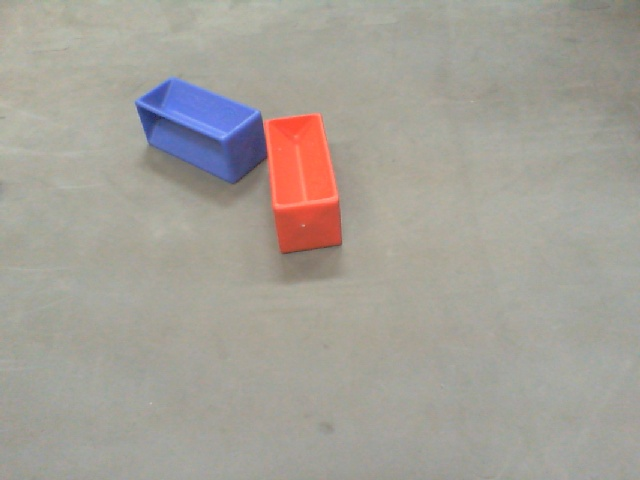BlueSample: (133, 76, 269, 186)
RedSample: (261, 112, 343, 258)
